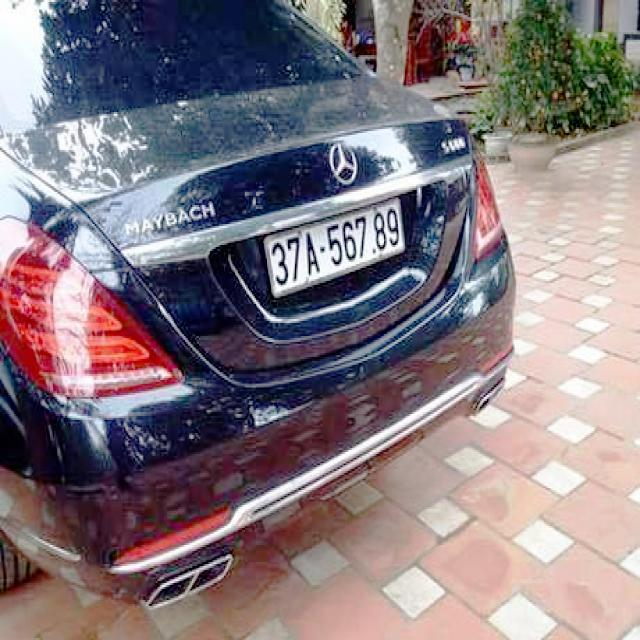license_plate: (263, 199, 407, 296)
